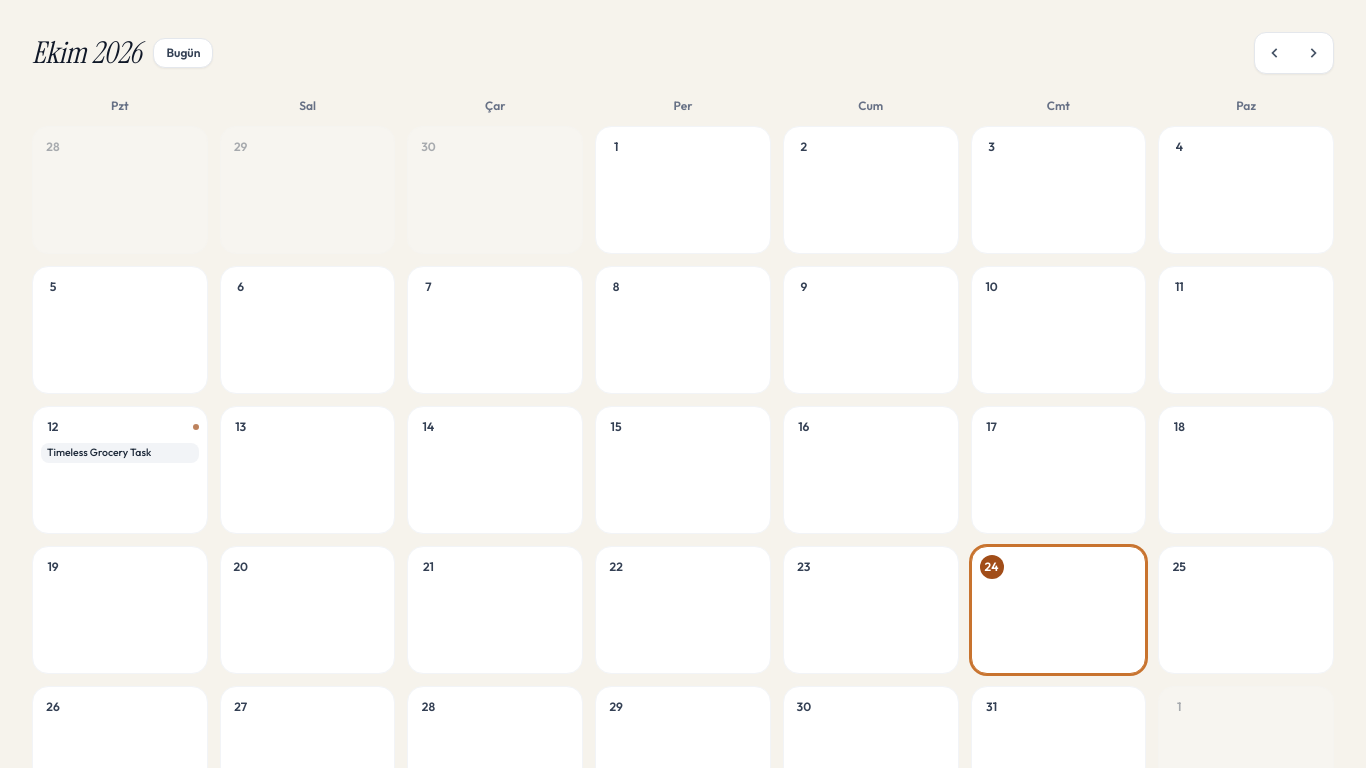
Test: MonthPage › does not render '00:00' for timeless dueAt-only tasks at Istanbul midnight
Check: the text "Timeless Grocery Task" is shown, box [47,445,151,461]
// In day panel as well
Click the cell with test id "cell-2026-10-12" at (120, 470), box [32,406,208,534]
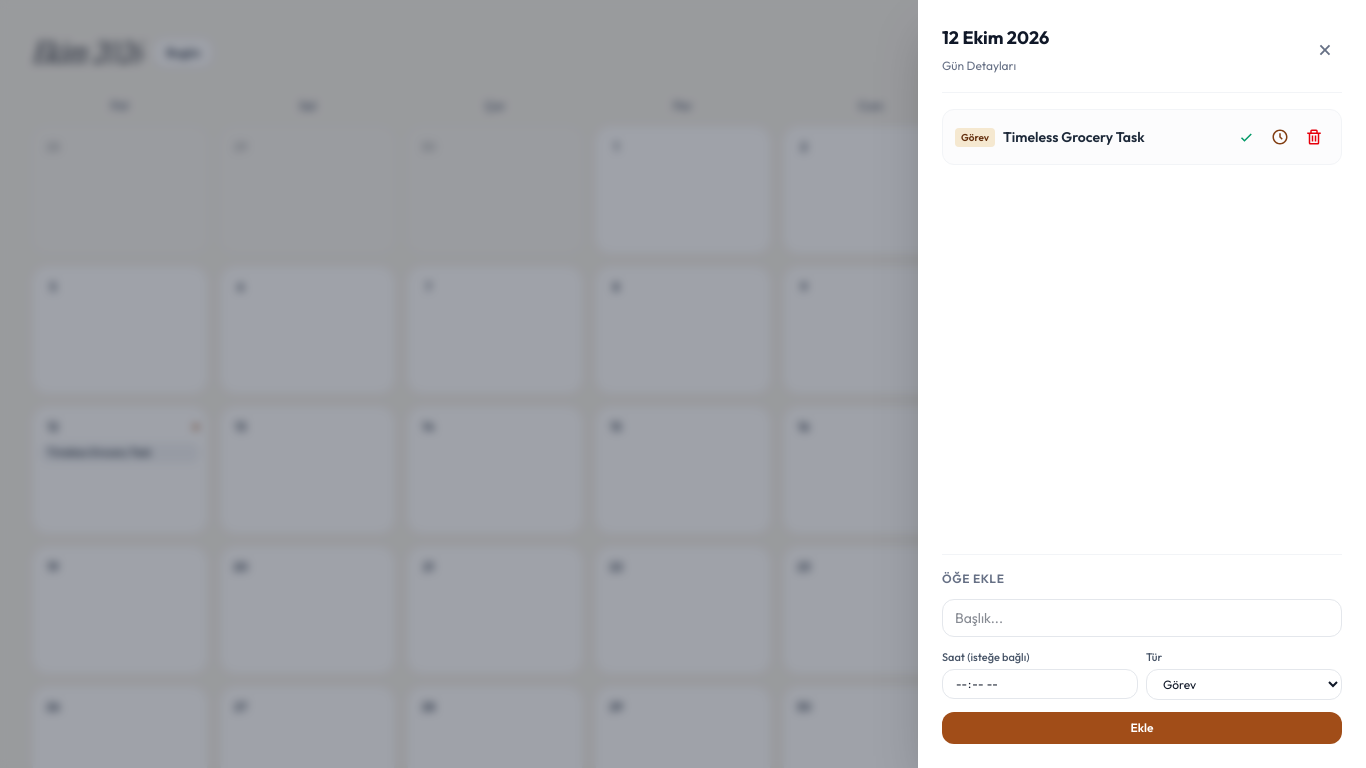
Check: the element with test id "day-panel" is shown
